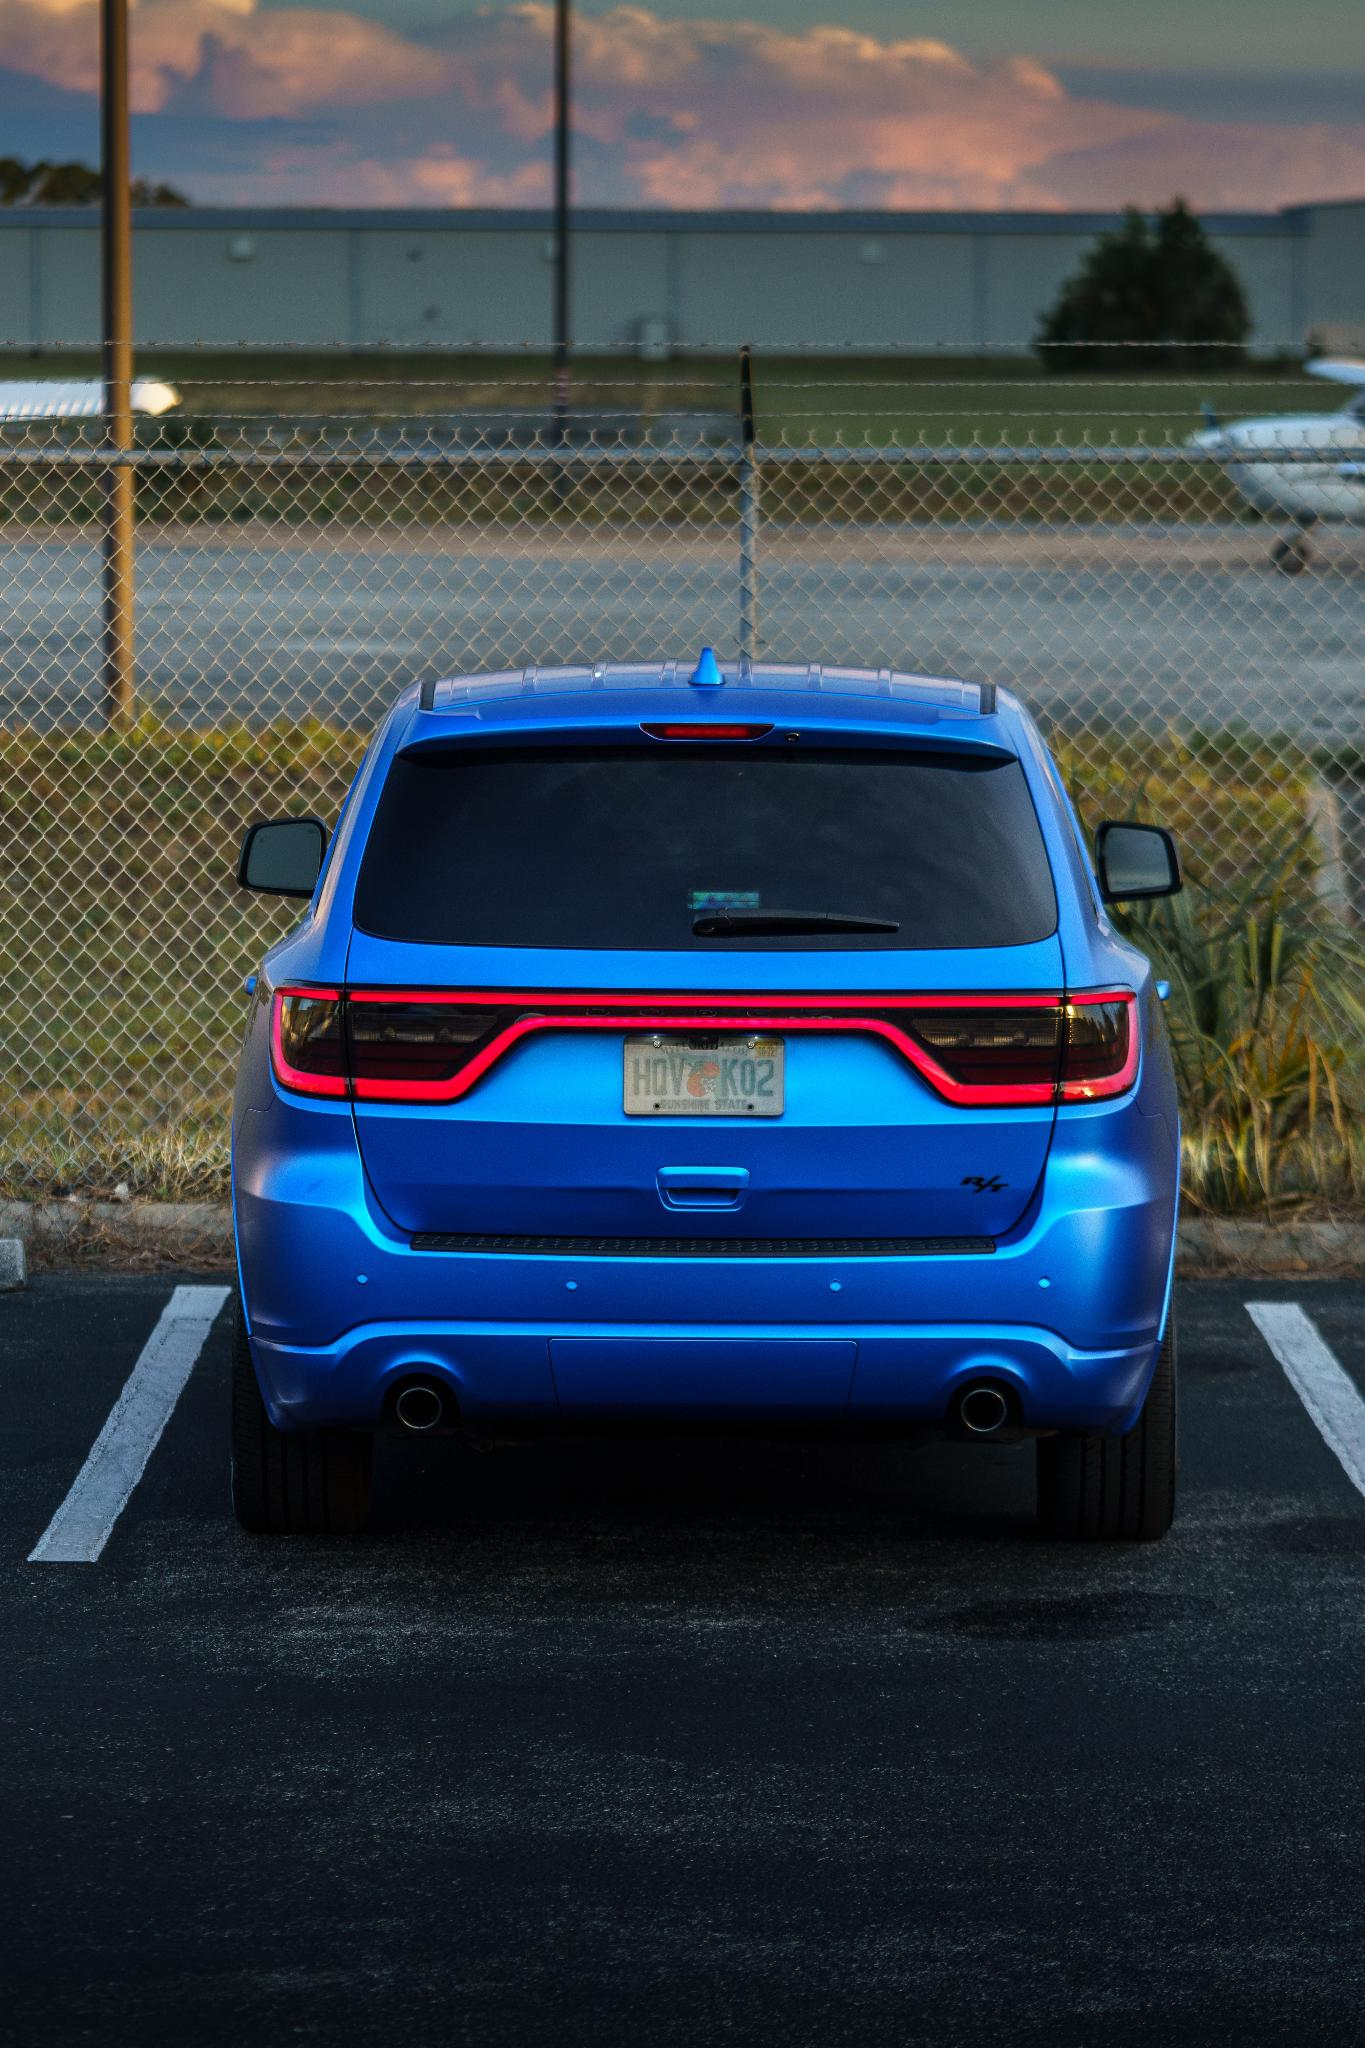dodge: (568, 981, 862, 1055)
